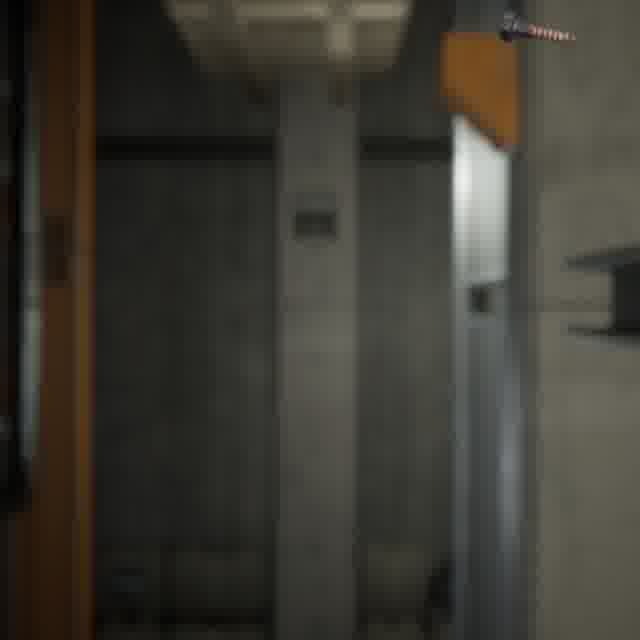bolt: (495, 6, 581, 49)
